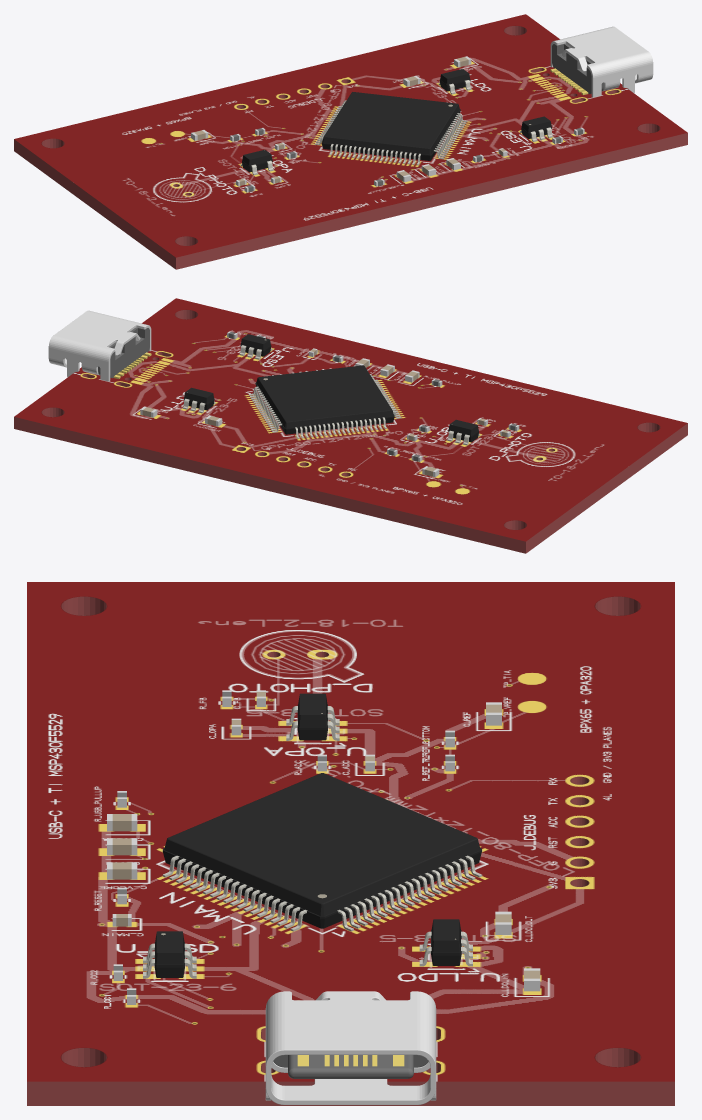
3 renders of one model, top to bottom at view 1: azimuth 30°, elevation 25°; view 2: azimuth 150°, elevation 25°; view 3: azimuth 270°, elevation 25°, orthographic. The views are drawn at different scales.
Parts seen in each view (by area): view 1: Box0, U_MAIN, J1, U_ESD, U_LDO, U_OPA; view 2: Box0, U_MAIN, J1, U_ESD, U_LDO, U_OPA; view 3: Box0, U_MAIN, J1, U_ESD, U_OPA, U_LDO.
Part boxes in pixels (box(x1,y1,x2,y2)): Box0: box(14, 14, 687, 269); U_MAIN: box(314, 92, 467, 165); J1: box(550, 26, 653, 97); U_ESD: box(520, 116, 553, 141); U_LDO: box(438, 69, 471, 94); U_OPA: box(240, 149, 273, 175); Box0: box(14, 298, 687, 553); U_MAIN: box(248, 365, 401, 438); J1: box(48, 310, 151, 381); U_ESD: box(239, 334, 272, 359); U_LDO: box(182, 387, 215, 413); U_OPA: box(447, 419, 480, 445); Box0: box(27, 582, 674, 1105); U_MAIN: box(162, 773, 482, 931); J1: box(265, 991, 436, 1104); U_ESD: box(143, 931, 196, 978); U_OPA: box(286, 693, 339, 740); U_LDO: box(419, 919, 472, 966).
Size of the model in its own units: 65.04 by 4.65 by 34.
13 materials, 2 textured.
